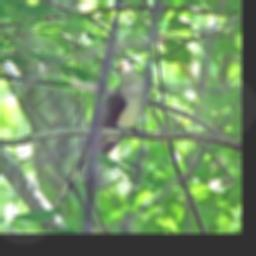Cuckoo: (45, 56, 150, 210)
